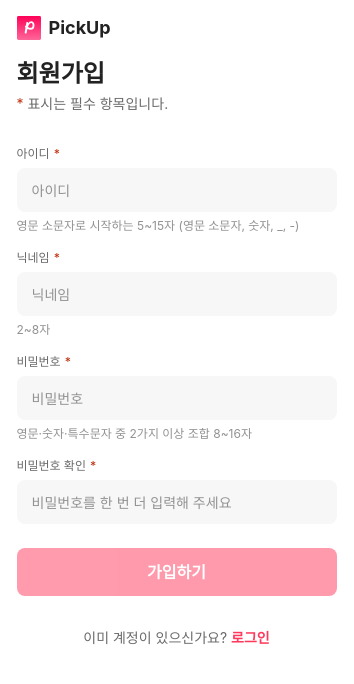
Test: 인증 및 헬스체크 라우트 › 회원가입은 비밀번호 불일치를 표시하고 유효하면 로그인으로 이동한다
Type "user1" into the field labelled "아이디 *" at (176, 190), box 16,168 -> 336,212
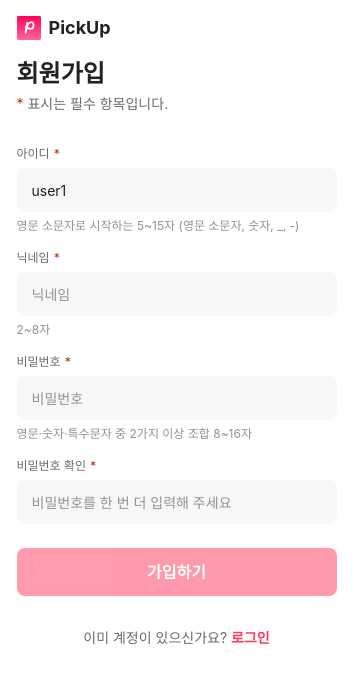
Type "nick1" into the field labelled "닉네임 *" at (176, 294), box 16,272 -> 336,316
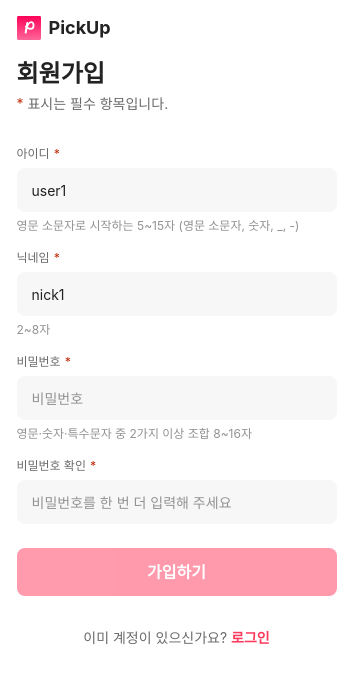
Type "pass1" into the password field labelled "비밀번호 *" at (176, 398), box 16,376 -> 336,420
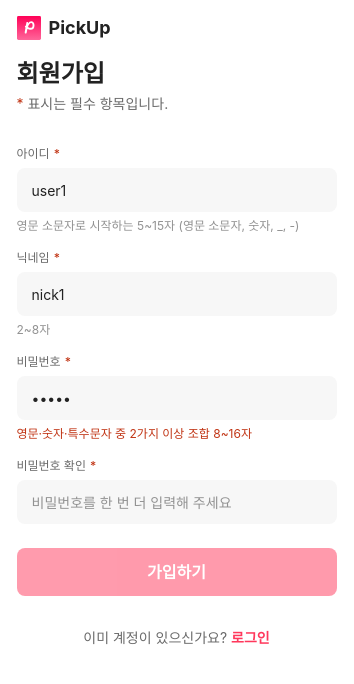
Type "other" into the password field labelled "비밀번호 확인 *" at (176, 502), box 16,480 -> 336,524
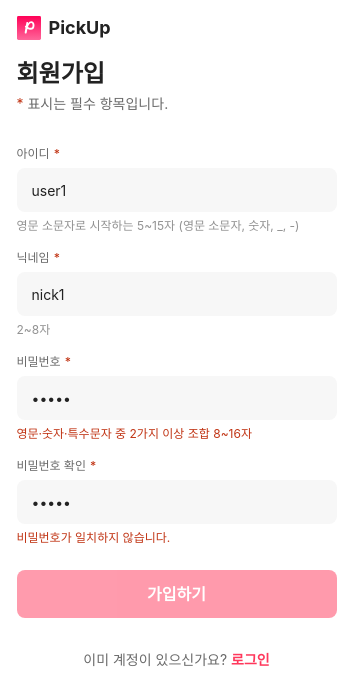
Expected: the text "비밀번호가 일치하지 않습니다." is shown, 16,530 -> 170,545
